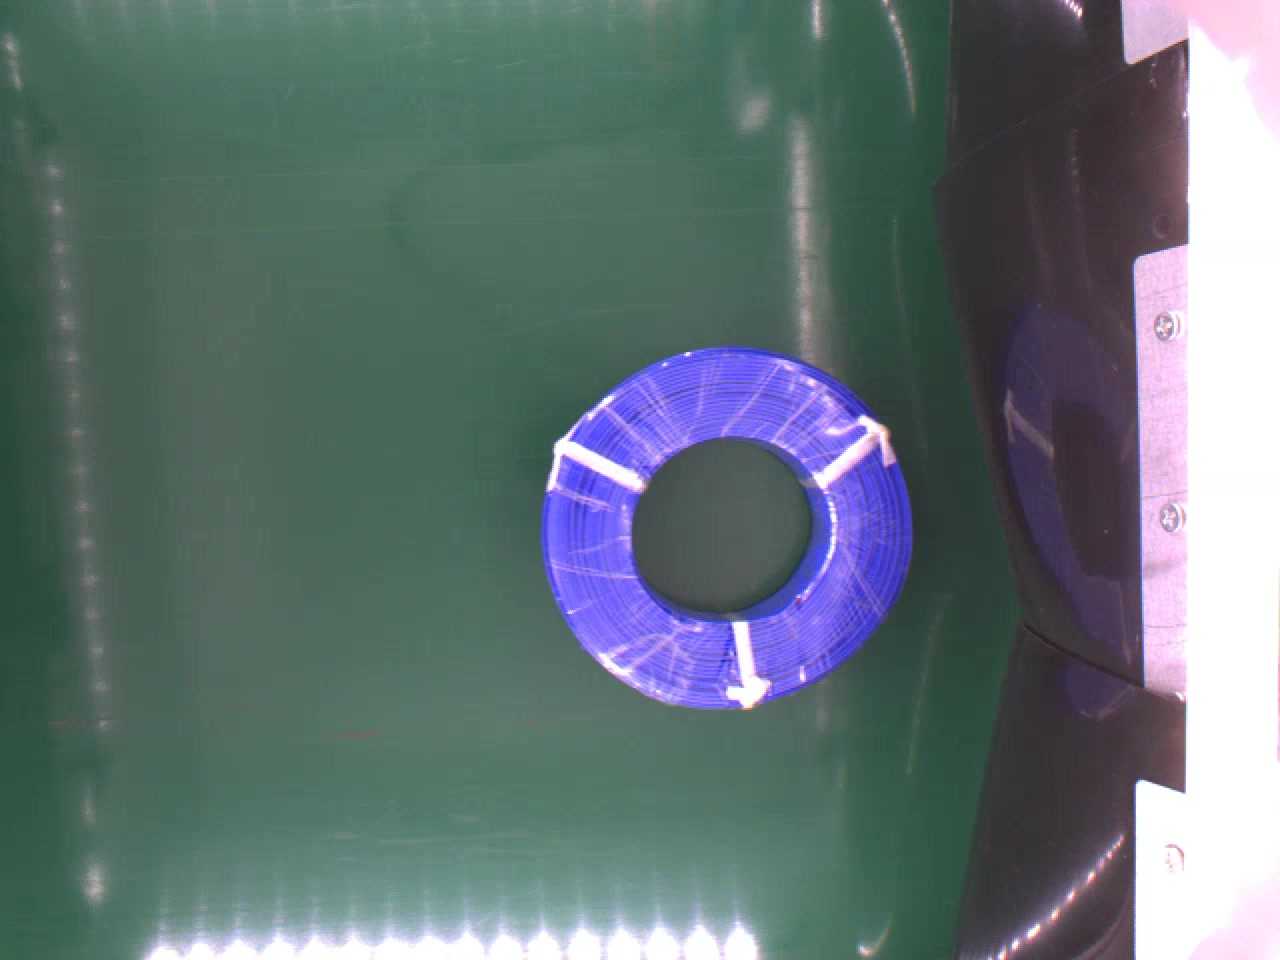blue: (536, 345, 919, 712)
